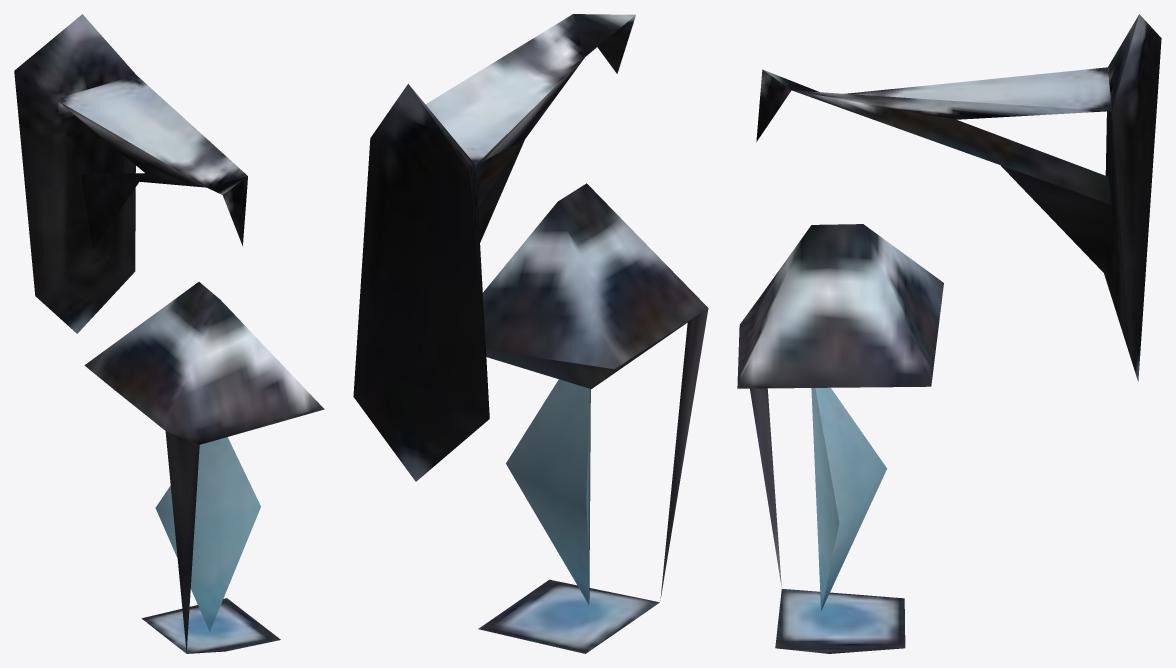
Rendered from b_givre_ornement_mur_lod2.glb.
3 renders of one model, left to right at view 1: azimuth 30°, elevation 25°; view 2: azimuth 150°, elevation 25°; view 3: azimuth 270°, elevation 25°, orthographic. The views are drawn at different scales.
Parts seen in each view (by area): view 1: geometry_0; view 2: geometry_0; view 3: geometry_0.
Boxes of the visible parts, x1=… form: geometry_0: x1=14, y1=14, x2=324, y2=653; geometry_0: x1=353, y1=14, x2=708, y2=653; geometry_0: x1=737, y1=14, x2=1161, y2=653.
Size of the model in its own units: 0.251 by 0.8568 by 0.5195.
Materials: 1 (1 with a texture image).
